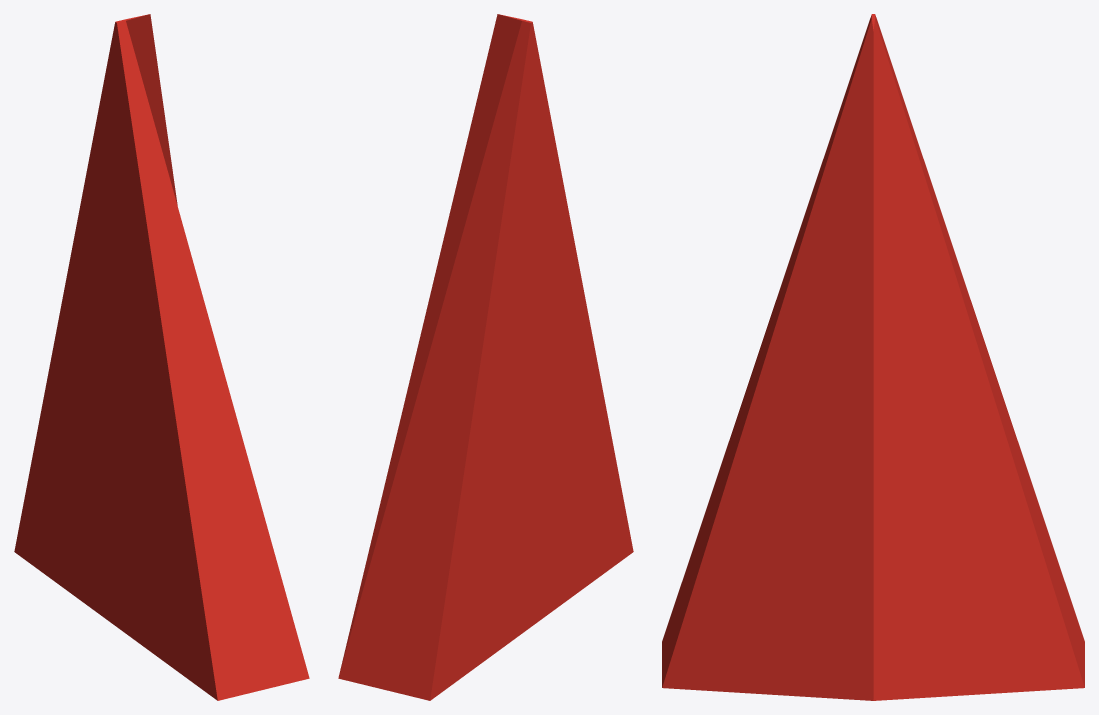
Rendered from Needle.fbx.
3 renders of one model, left to right at view 1: azimuth 30°, elevation 25°; view 2: azimuth 150°, elevation 25°; view 3: azimuth 270°, elevation 25°, orthographic. The views are drawn at different scales.
Parts seen in each view (by area): view 1: Needle; view 2: Needle; view 3: Needle.
Boxes of the visible parts, x1,y1,x2,y2 form: Needle: (14, 14, 309, 700); Needle: (338, 14, 633, 700); Needle: (662, 14, 1084, 700).
Size of the model in its own units: 139 by 685 by 418.
